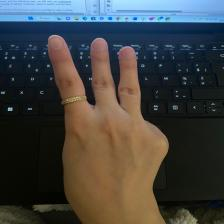five: (34, 33, 174, 208)
